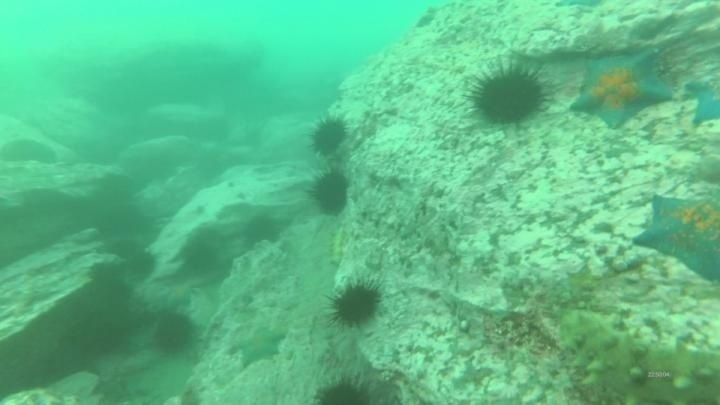echinus: (468, 62, 550, 128), (327, 279, 384, 329), (151, 309, 197, 356), (309, 168, 352, 217), (312, 375, 377, 405), (308, 114, 350, 158), (181, 239, 222, 277), (86, 259, 129, 294), (241, 213, 282, 248), (123, 247, 159, 283)
holothurian: (557, 308, 719, 403), (325, 223, 351, 272)
starfish: (569, 48, 674, 130), (631, 193, 720, 285), (233, 325, 287, 369), (684, 79, 720, 130), (159, 279, 199, 310)
